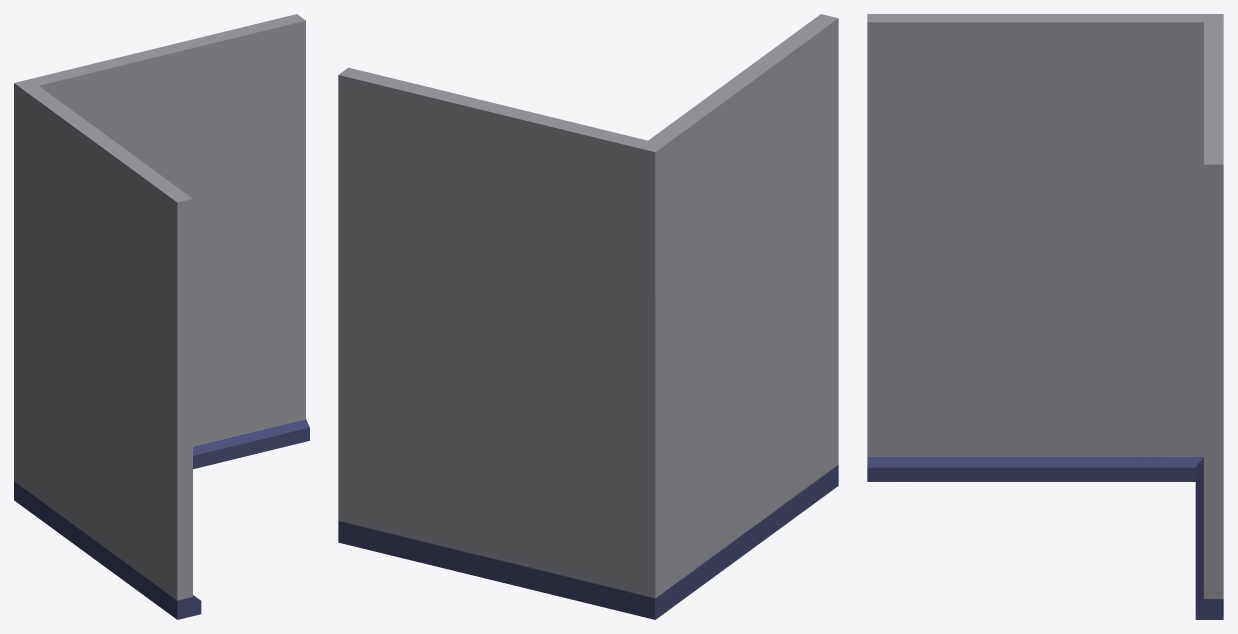
Rendered from wall2.glb.
3 renders of one model, left to right at view 1: azimuth 30°, elevation 25°; view 2: azimuth 150°, elevation 25°; view 3: azimuth 270°, elevation 25°, orthographic. The views are drawn at different scales.
Visible parts, largest first — view 1: Wall2-material; view 2: Wall2-material; view 3: Wall2-material.
Boxes of the visible parts, <box> form: Wall2-material: <box>14,14,309,619</box>; Wall2-material: <box>338,14,838,619</box>; Wall2-material: <box>867,14,1223,619</box>.
Bounding box in the file's own units: 0.3451 × 0.4864 × 0.3452.
1 material, 1 textured.
